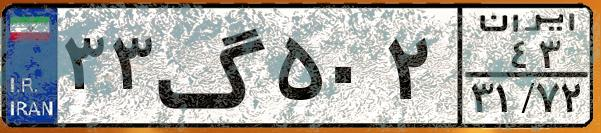0: (330, 28, 385, 110)
1: (495, 70, 520, 125)
2: (385, 28, 445, 110), (560, 70, 590, 125)
3: (57, 26, 110, 100), (110, 28, 156, 98), (537, 27, 568, 80), (470, 70, 495, 125)
4: (508, 27, 537, 80)
5: (270, 28, 330, 110)
7: (535, 70, 560, 125)
گ: (156, 12, 270, 120)
